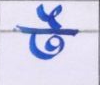ai_matra: (37, 4, 66, 29)
